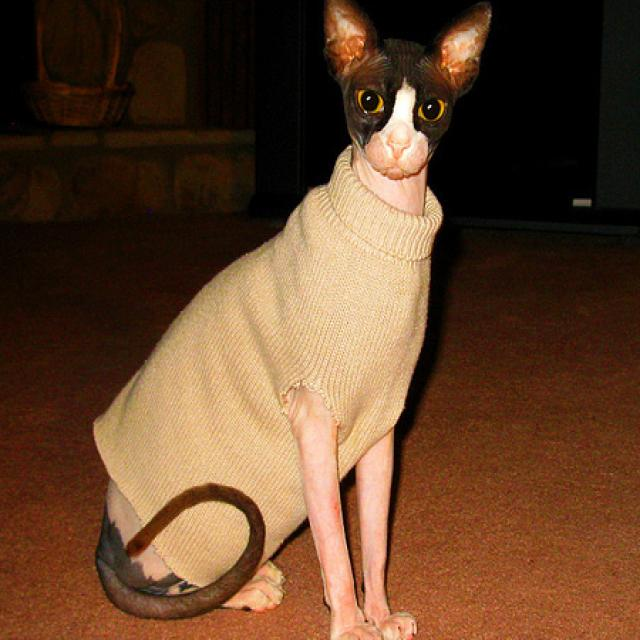Sphynx: (84, 0, 495, 640)
